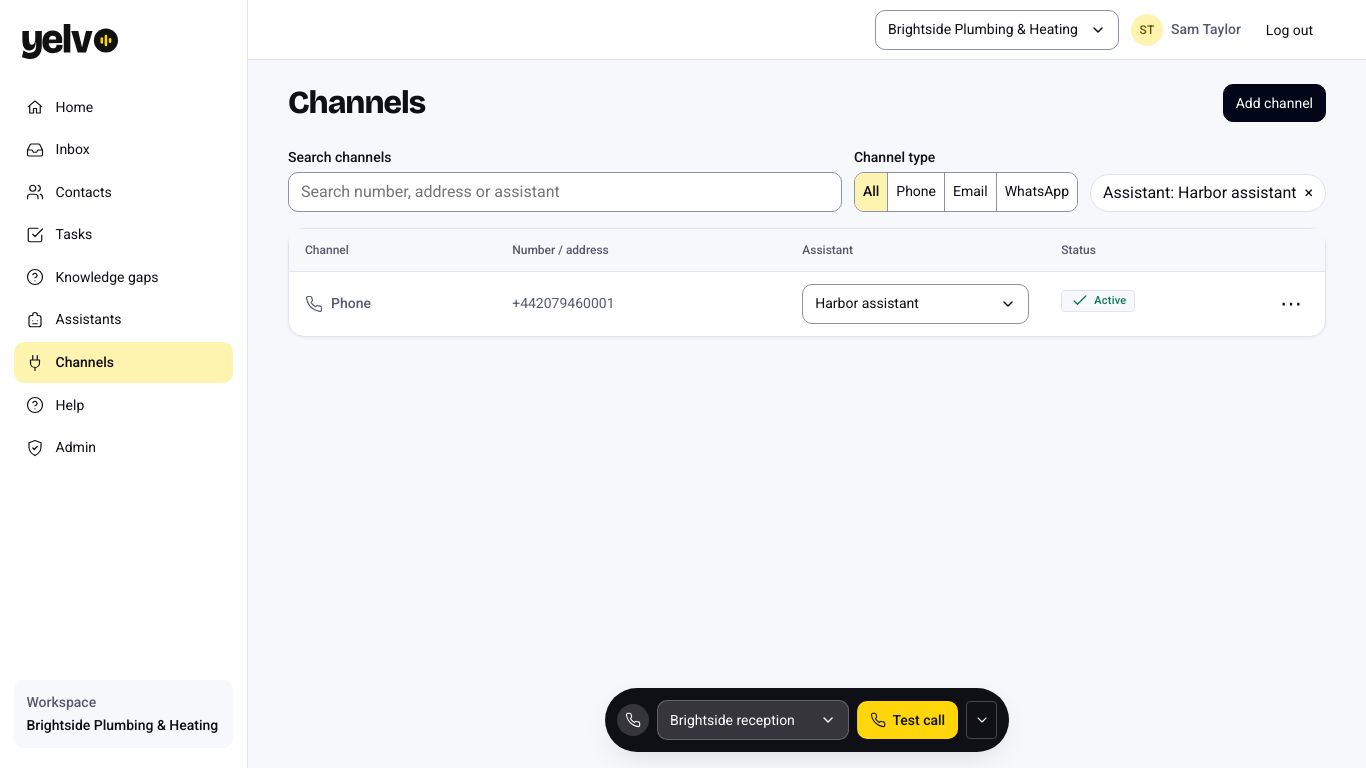
Test: workspace Channels page › filters by the assistant query parameter and removes the filter chip
The width and height of the screenshot is (1366, 768).
Expected: the text "+442079460001" is shown, [512,295,615,311]
Expected: the text "assistant@example.test" is not shown
What coordinates should you click on to do the following:
click the button named "Remove assistant filter"
I would click on:
 (1208, 193)
Its box is [1090,174,1326,212].
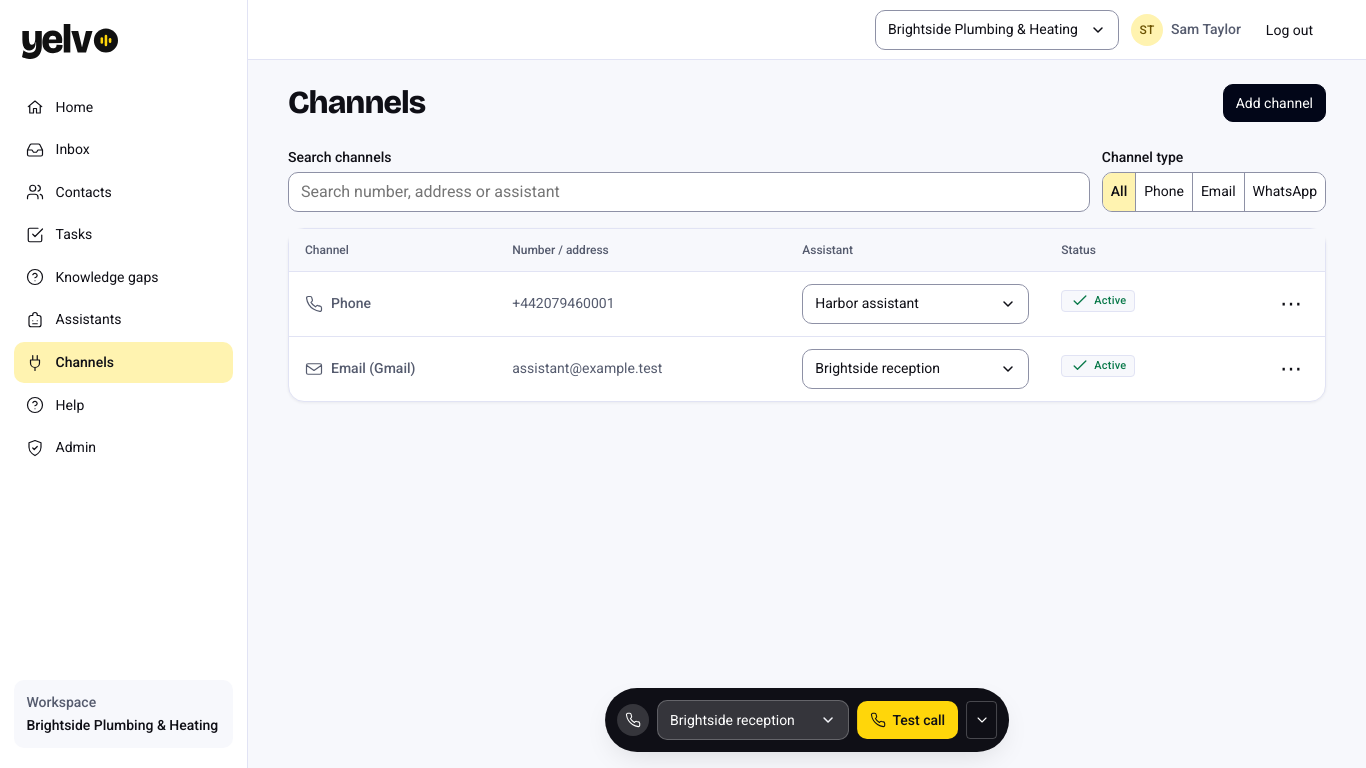
Now the text "assistant@example.test" is shown, box [512,360,662,376]
